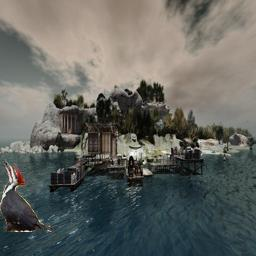Woodpecker: (0, 159, 57, 232)
